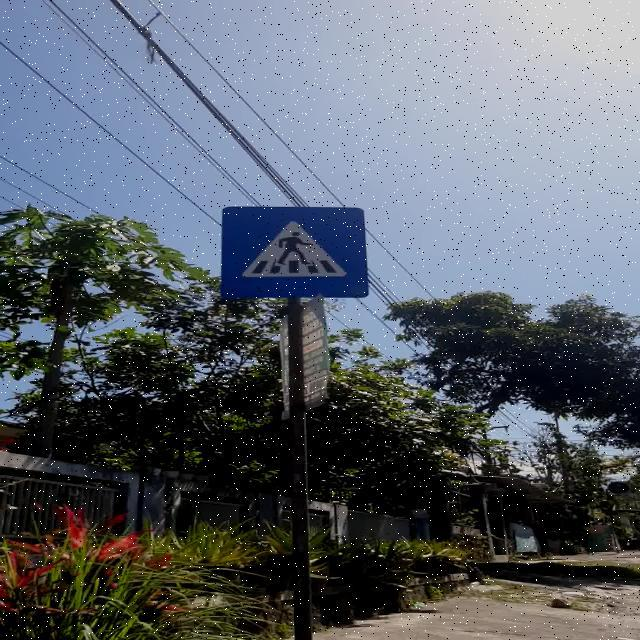Perintah Jalur Penyebrangan: (221, 208, 369, 298)
